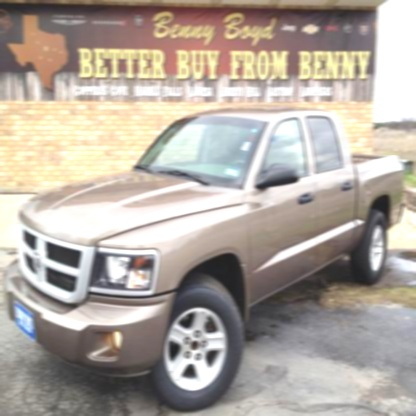Vehicle: (3, 106, 405, 413)
